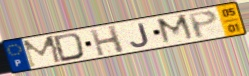D: (52, 32, 87, 64)
H: (88, 24, 126, 57)
J: (129, 21, 151, 48)
M: (21, 34, 65, 69), (155, 12, 198, 46)
P: (186, 9, 220, 41)
